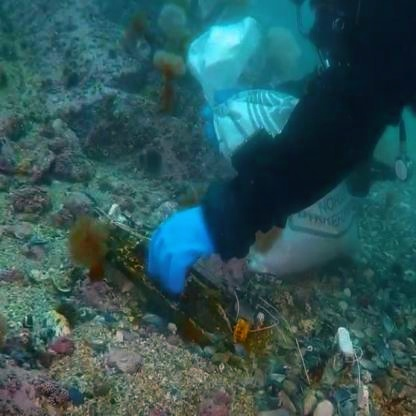electronics: (117, 231, 247, 354)
plastic: (206, 38, 294, 154)
